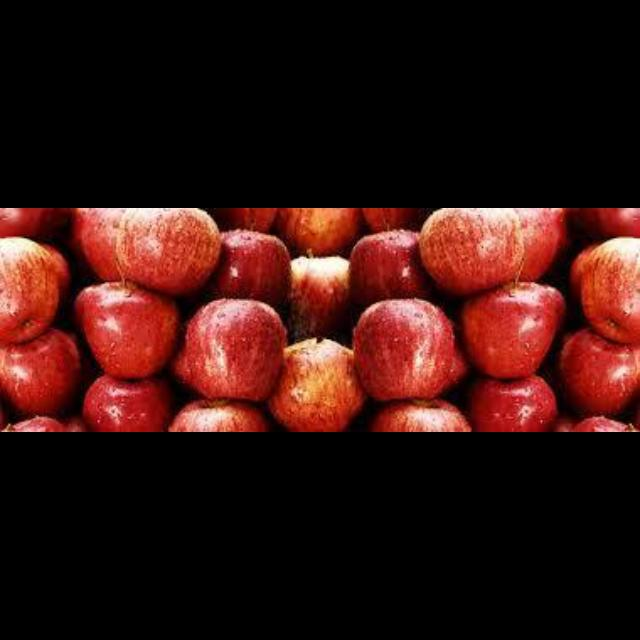apple: (72, 208, 219, 296), (172, 299, 285, 400), (352, 299, 465, 398), (76, 282, 179, 378), (461, 282, 564, 378), (419, 208, 524, 296), (268, 338, 365, 430), (557, 329, 638, 415), (0, 329, 81, 413), (205, 230, 290, 306), (0, 237, 59, 343), (349, 230, 431, 306), (581, 237, 638, 343), (288, 257, 349, 339), (467, 376, 556, 430), (275, 208, 362, 255), (512, 208, 564, 279)
